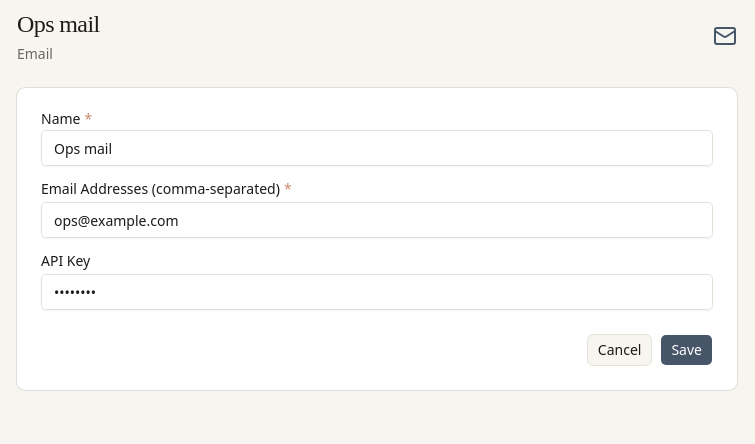
Test: editing an alert destination › reports a refused save instead of looking saved
This screenshot has width=755, height=444.
Expected: the field labelled "Name" holds "Ops mail", [41, 130, 713, 166]
Click the button "Save" at [687, 350], box [660, 334, 713, 366]
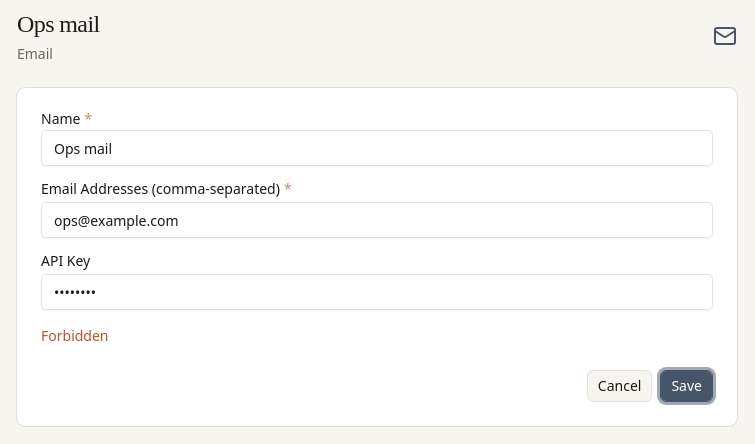
Now the message reads "Forbidden", box [41, 326, 108, 345]
